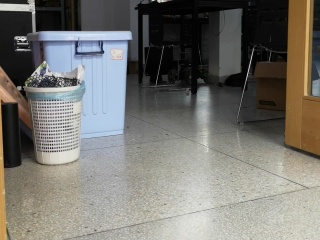room: (3, 2, 320, 234)
